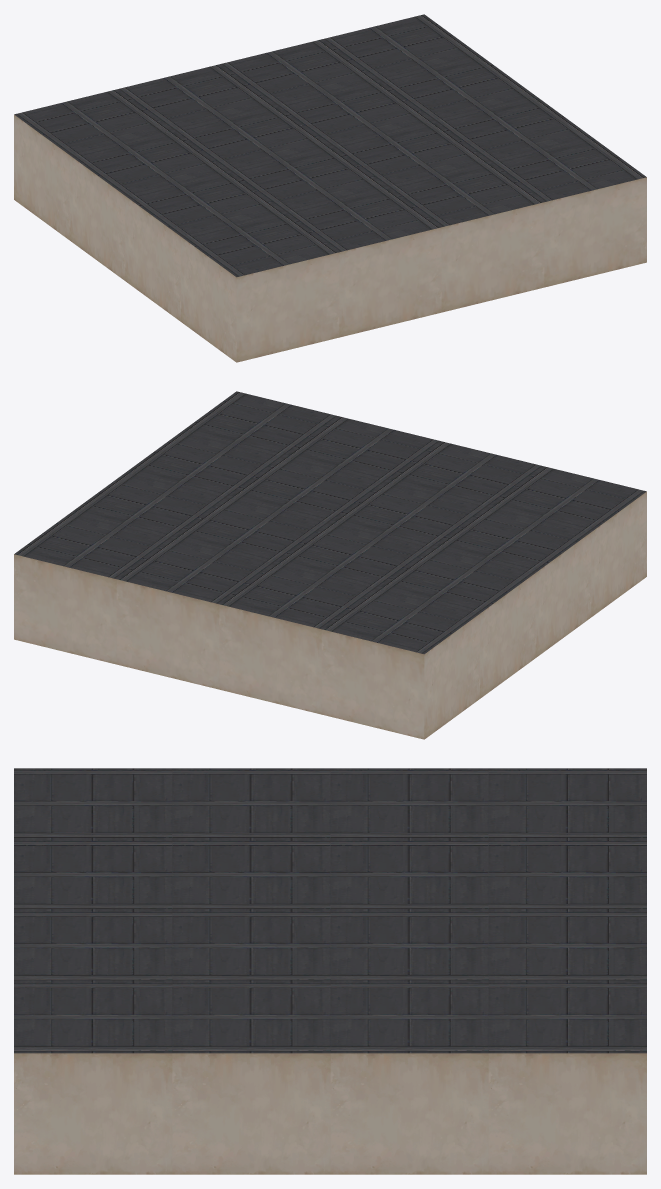
Rendered from IndoorScene_Dq_Syabugyo.fbx.
The picture shows the model from 3 angles, top to bottom: view 1: azimuth 30°, elevation 25°; view 2: azimuth 150°, elevation 25°; view 3: azimuth 270°, elevation 25°; orthographic projection. The views are drawn at different scales.
Visible parts, largest first — view 1: Indoor_Dq_Build_Syabugyo_Filling_Vo; view 2: Indoor_Dq_Build_Syabugyo_Filling_Vo; view 3: Indoor_Dq_Build_Syabugyo_Filling_Vo.
Boxes of the visible parts, x1=… form: Indoor_Dq_Build_Syabugyo_Filling_Vo: x1=14, y1=14, x2=646, y2=362; Indoor_Dq_Build_Syabugyo_Filling_Vo: x1=14, y1=391, x2=646, y2=739; Indoor_Dq_Build_Syabugyo_Filling_Vo: x1=14, y1=768, x2=646, y2=1174.
Size of what is drawn, in the model's own units: 34.83 by 6.92 by 32.71.
